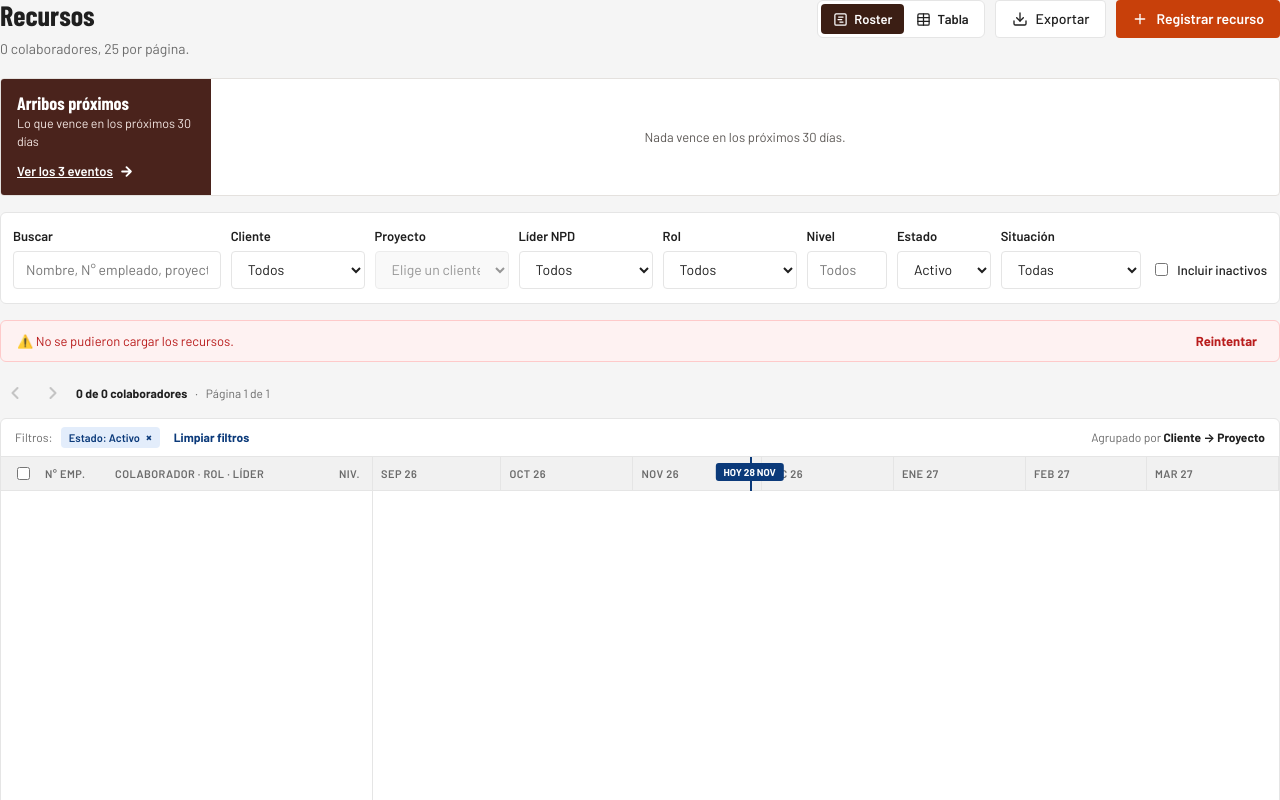
Test case: ResourcesPage · BUG-02 visible errors › shows the error with a retry instead of sample people
The width and height of the screenshot is (1280, 800).
Expected: the message shows "No se pudieron cargar los recursos.", [36,333,234,349]
Expected: the message does not show "datos de prueba", [0,320,1279,362]
Click the button "Reintentar".
click(1226, 341)  # box [1190,331,1263,351]
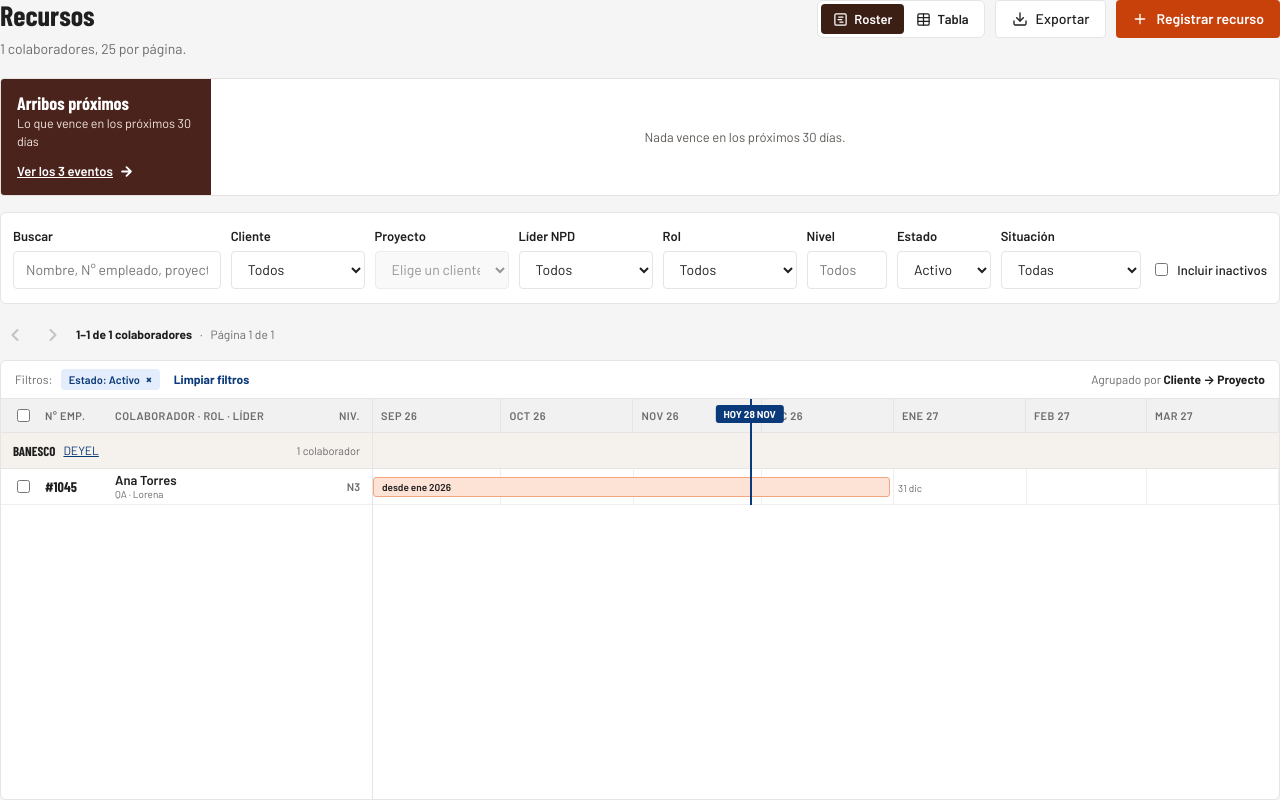
Expected: the text "#1045" is shown, [45,478,77,495]
Expected: the message "⚠️ No se pudieron cargar los recursos. Reintentar" is gone
